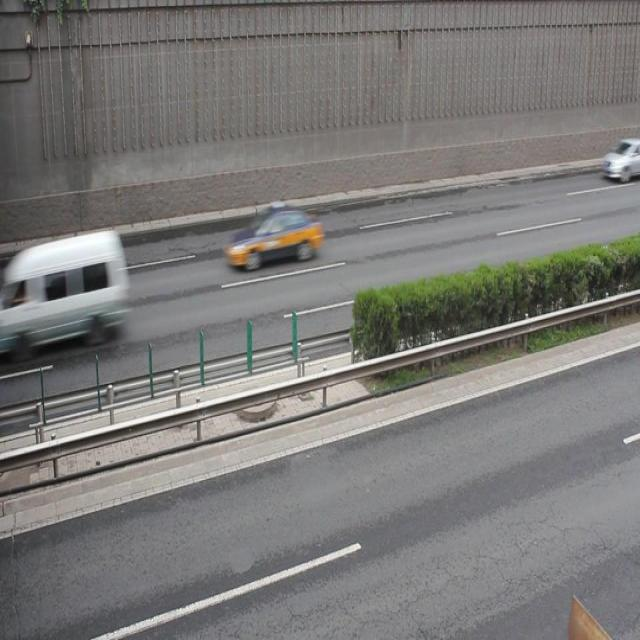car: (224, 206, 323, 268)
truck: (23, 230, 126, 340)
